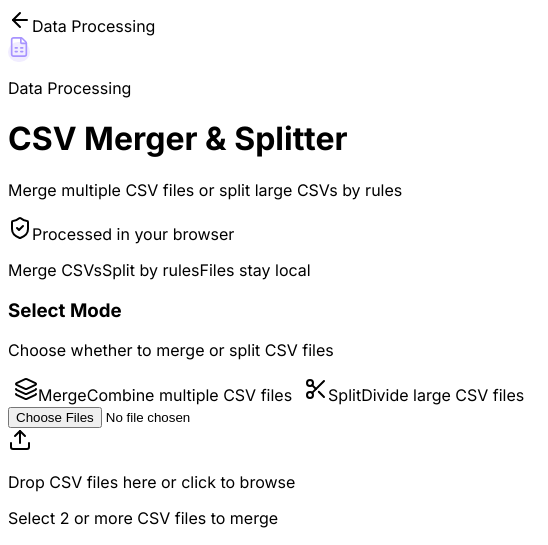
CSV Merger - Mode Switching Tests › should switch from merge to split mode
The image size is (548, 545).
Click the button "Split". click: x=414, y=391
box: [298,376,530,406]
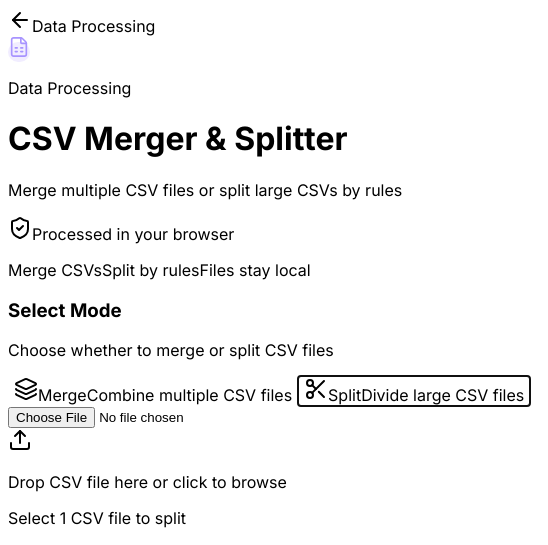
Check: the text "Select 1 CSV file to split" is shown, box [8,508,186,528]
